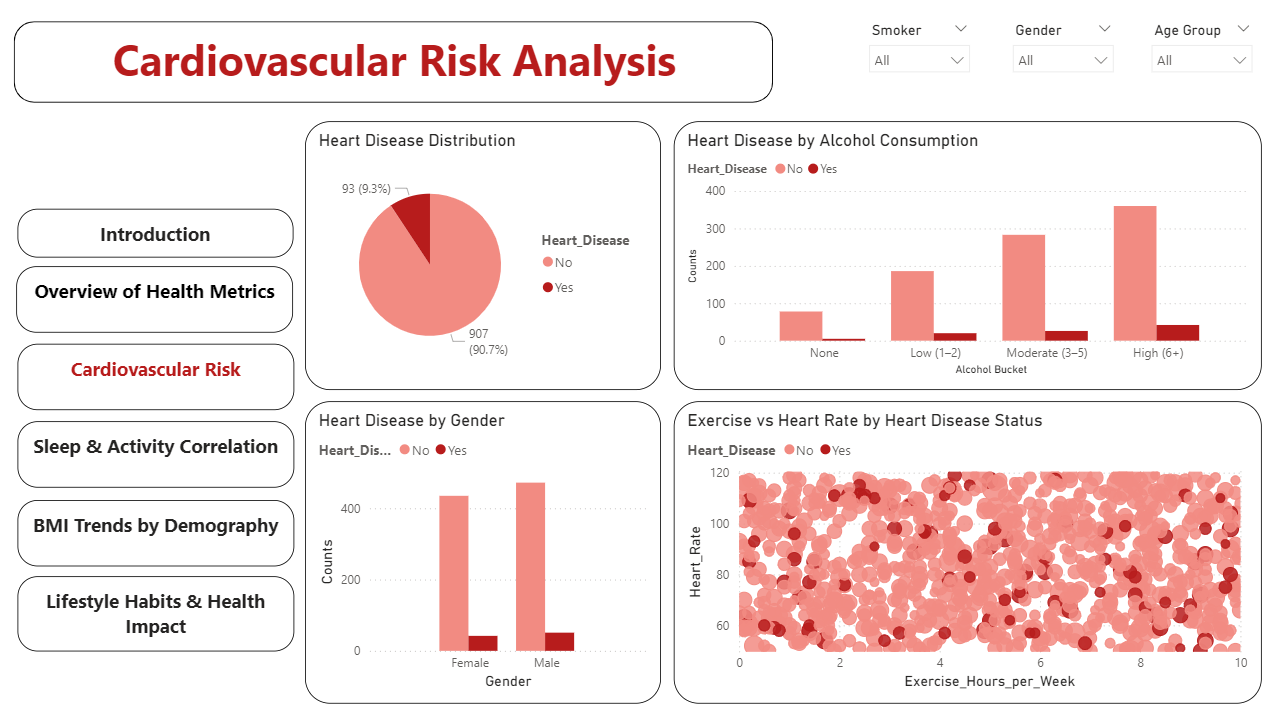

What the dashboard file says about the page in this screenshot:
{"tool":"powerbi","page":{"name":"Cardiovascular Risk Analysis","canvas":[1280,720],"ordinal":2},"visuals":[{"type":"pieChart","title":"Heart Disease Distribution","fields":{"Category":["Health_Data.Heart_Disease"],"Y":["CountNonNull(Health_Data.ID)"]},"box":[304.9,121,355.8,268.6],"z":0},{"type":"clusteredColumnChart","title":"Heart Disease by Alcohol Consumption","fields":{"Category":["Health_Data.Alcohol Bucket"],"Y":["CountNonNull(Health_Data.ID)"],"Series":["Health_Data.Heart_Disease"]},"box":[674,121,588.1,268.6],"z":1000},{"type":"scatterChart","title":"Exercise vs Heart Rate by Heart Disease Status","fields":{"Series":["Health_Data.Heart_Disease"],"Size":["Sum(Health_Data.Age)"],"X":["Health_Data.Exercise_Hours_per_Week"],"Y":["Health_Data.Heart_Rate"]},"box":[674,401.7,588.1,302.5],"z":2000},{"type":"slicer","fields":{"Values":["Health_Data.Smoker"]},"box":[859.1,16.8,121.2,70.8],"z":3000},{"type":"slicer","fields":{"Values":["Health_Data.Gender"]},"box":[1003.1,16.8,121.2,70.8],"z":4000},{"type":"slicer","fields":{"Values":["Health_Data.Age Group"]},"box":[1141.1,16.8,121.2,70.8],"z":5000},{"type":"shape","box":[14,20.9,759.3,81.4],"z":6000},{"type":"textbox","box":[53.5,24.4,681.4,74.4],"z":7000},{"type":"textbox","box":[16.3,266.3,276.7,66.3],"z":8000},{"type":"textbox","box":[17.4,344.2,276.7,66.3],"z":9000},{"type":"textbox","box":[17.4,420.9,276.7,66.3],"z":10000},{"type":"textbox","box":[17.4,500,276.7,66.3],"z":11000},{"type":"textbox","box":[17.4,576.7,276.7,75.6],"z":12000},{"type":"clusteredColumnChart","title":"Heart Disease by Gender","fields":{"Y":["CountNonNull(Health_Data.ID)"],"Series":["Health_Data.Heart_Disease"],"Category":["Health_Data.Gender"]},"box":[304.9,401.7,355.8,302.5],"z":13000},{"type":"shape","box":[16.9,421.1,275.9,66.6],"z":14000},{"type":"shape","box":[13.6,499.8,279.3,66.7],"z":15000},{"type":"shape","box":[15.8,266.8,277,66.7],"z":16000},{"type":"shape","box":[17,576.6,275.9,75.8],"z":17000},{"type":"textbox","box":[17,209.2,275.9,48.6],"z":18000},{"type":"shape","box":[17,209.2,277,48.6],"z":19000}]}

Visuals, with their boxes in screenshot pixels (x1, y1, x2, y2), scaled from the page's 1280x720 canvas onto the 1279x719 screenshot:
"Heart Disease Distribution" pieChart: x1=305, y1=121, x2=660, y2=389
"Heart Disease by Alcohol Consumption" clusteredColumnChart: x1=673, y1=121, x2=1261, y2=389
"Exercise vs Heart Rate by Heart Disease Status" scatterChart: x1=673, y1=401, x2=1261, y2=703
slicer - Health_Data.Smoker: x1=858, y1=17, x2=980, y2=87
slicer - Health_Data.Gender: x1=1002, y1=17, x2=1123, y2=87
slicer - Health_Data.Age Group: x1=1140, y1=17, x2=1261, y2=87
shape: x1=14, y1=21, x2=773, y2=102
textbox: x1=53, y1=24, x2=734, y2=99
textbox: x1=16, y1=266, x2=293, y2=332
textbox: x1=17, y1=344, x2=294, y2=410
textbox: x1=17, y1=420, x2=294, y2=487
textbox: x1=17, y1=499, x2=294, y2=566
textbox: x1=17, y1=576, x2=294, y2=651
"Heart Disease by Gender" clusteredColumnChart: x1=305, y1=401, x2=660, y2=703
shape: x1=17, y1=421, x2=293, y2=487
shape: x1=14, y1=499, x2=293, y2=566
shape: x1=16, y1=266, x2=293, y2=333
shape: x1=17, y1=576, x2=293, y2=651
textbox: x1=17, y1=209, x2=293, y2=257
shape: x1=17, y1=209, x2=294, y2=257
